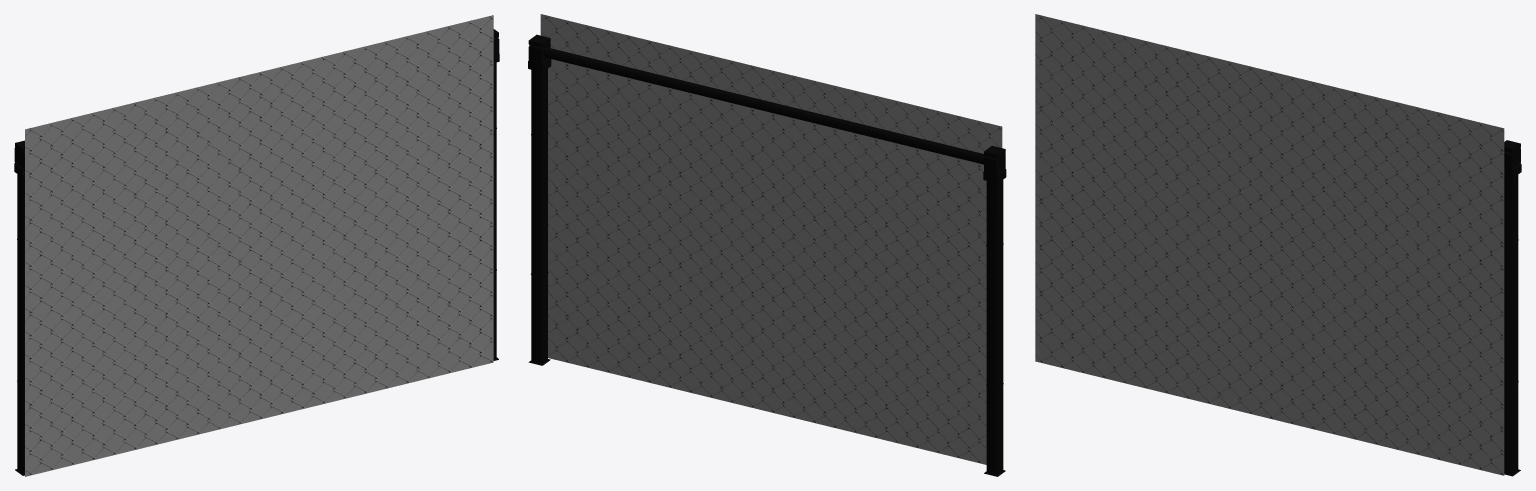
The model's file is chainlink_fence_-_low_poly.glb.
3 renders of one model, left to right at view 1: azimuth 30°, elevation 25°; view 2: azimuth 150°, elevation 25°; view 3: azimuth 330°, elevation 25°, orthographic.
Parts seen in each view (by area): view 1: pPlane1, pCube1, pCube3; view 2: pPlane2, pCube1, pCube3, pCube2; view 3: pPlane1, pCube3.
Part boxes in pixels (x1,y1,x2,y2): pPlane1: (25,15,493,476); pCube1: (14,140,24,475); pCube3: (493,29,499,360); pPlane2: (540,14,1002,464); pCube1: (983,145,1006,476); pCube3: (528,34,551,365); pCube2: (543,47,984,164); pPlane1: (1035,14,1504,475); pCube3: (1504,140,1521,476).
Size of the model in its own units: 24.42 by 17 by 0.9138.
2 materials, 1 textured.
